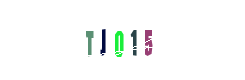1: (82, 0, 162, 80)
5: (108, 0, 188, 80)
J: (78, 0, 158, 80)
O: (78, 0, 158, 80)
T: (64, 0, 144, 80)
